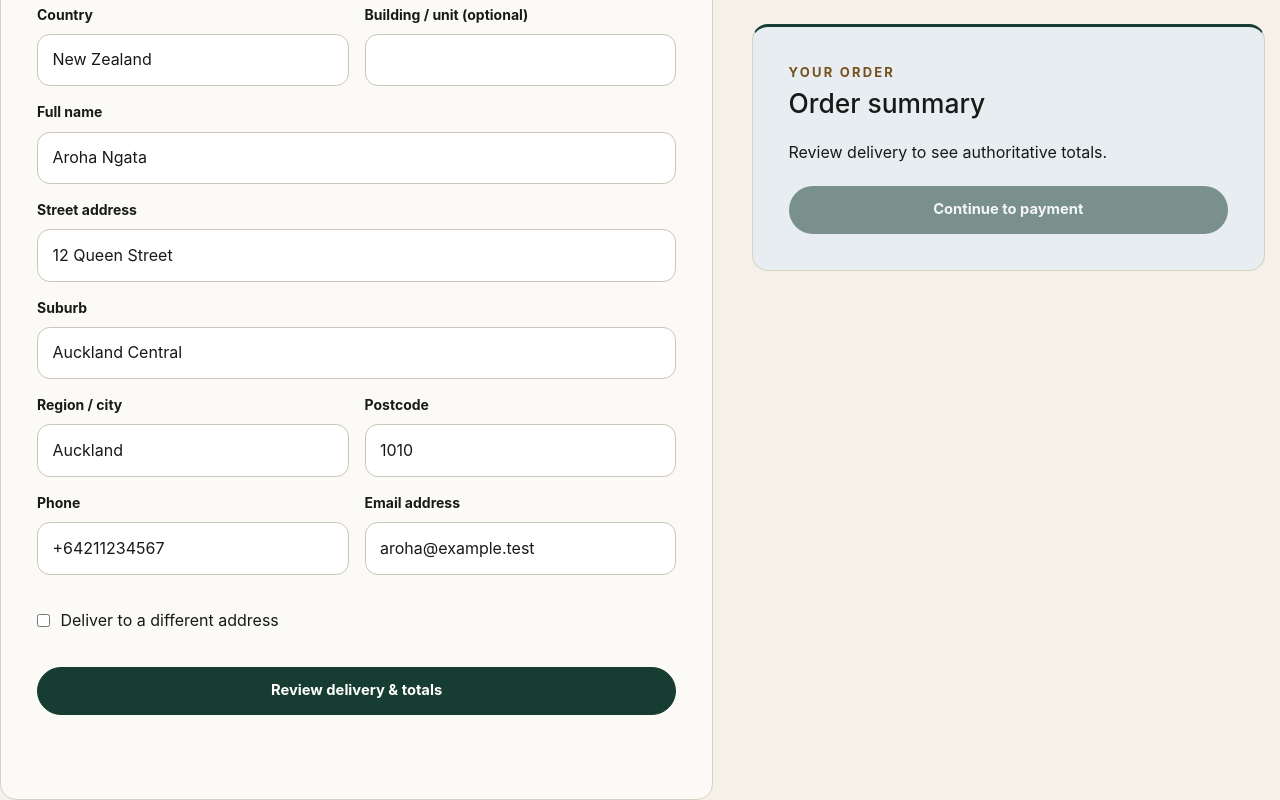
Test: CheckoutView › does not track shipping or payment information when review fails
This screenshot has width=1280, height=800.
(page scrolled)
Click the button "Review delivery & totals" at (357, 691), box [37,667,676,715]
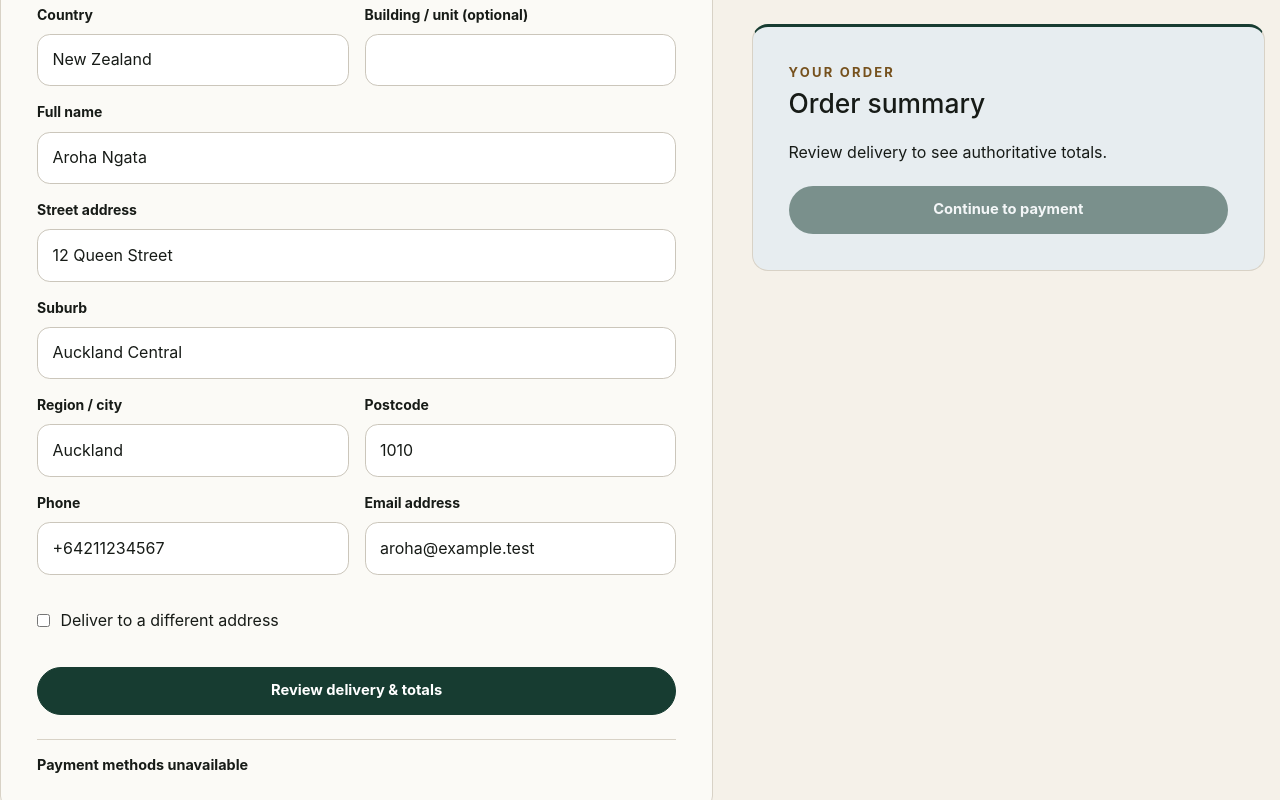
Result: the text "Payment methods unavailable" is shown at [37,739,676,775]
